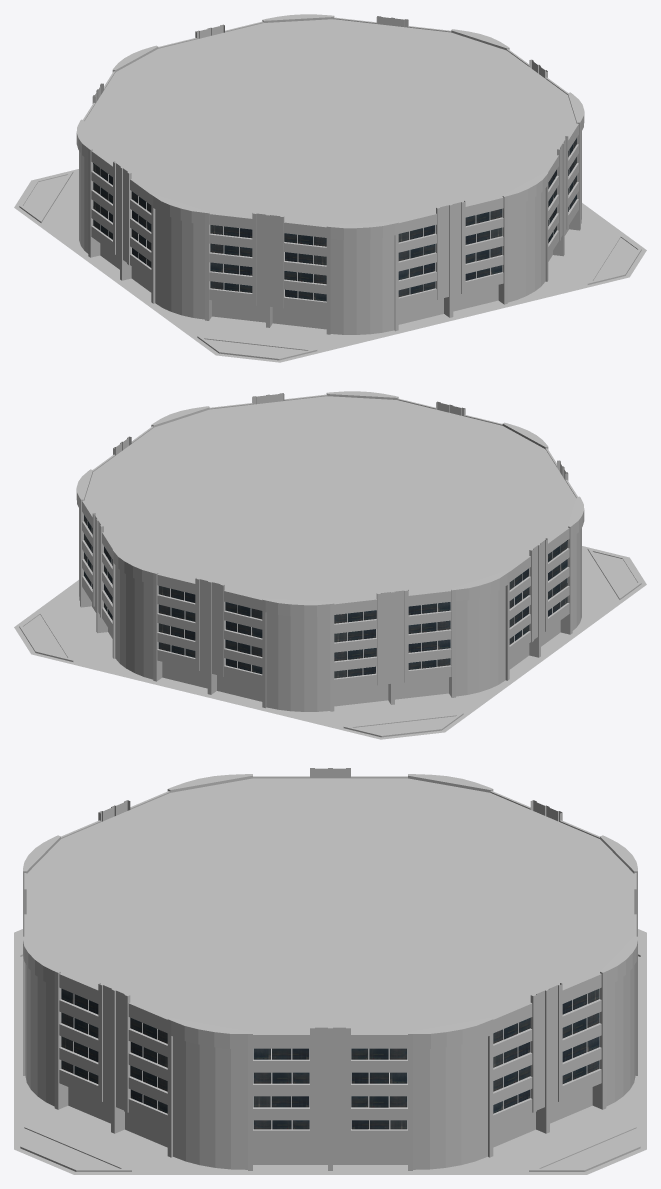
The picture shows the model from 3 angles, top to bottom: view 1: azimuth 30°, elevation 25°; view 2: azimuth 150°, elevation 25°; view 3: azimuth 270°, elevation 25°; orthographic projection. The views are drawn at different scales.
Visible parts, largest first — view 1: QD-07; view 2: QD-07; view 3: QD-07.
Boxes of the visible parts, box(x1,y1,x2,y2) form: QD-07: box(14, 14, 646, 362); QD-07: box(14, 391, 646, 739); QD-07: box(14, 768, 646, 1174).
Size of what is drawn, in the model's own units: 72 by 17.96 by 72.
